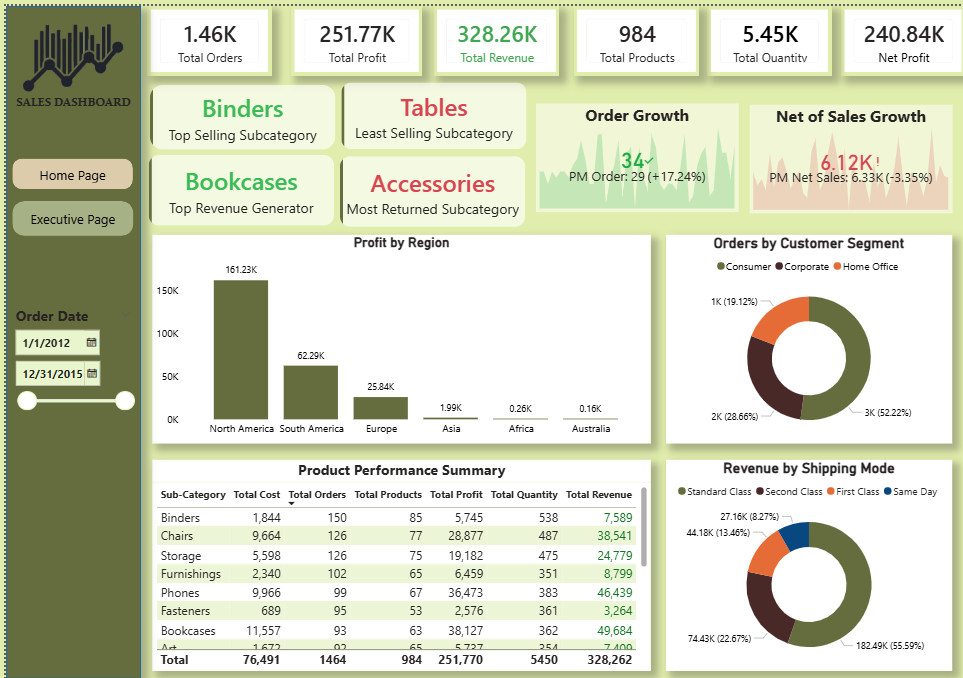

The dashboard page shown, as its layout file describes it:
{"tool":"powerbi","page":{"name":"Executive Page","canvas":[1280,720],"ordinal":1},"visuals":[{"type":"cardVisual","fields":{"Data":["KPI_Measures.Total Orders"]},"box":[190.4,11.5,199.1,101],"z":0},{"type":"cardVisual","fields":{"Data":["KPI_Measures.Total Profit"]},"box":[408.3,11.5,191.9,101],"z":1000},{"type":"cardVisual","fields":{"Data":["KPI_Measures.Total Revenue"]},"box":[620.4,11.5,202,102.4],"z":2000},{"type":"cardVisual","fields":{"Data":["KPI_Measures.Total Products"]},"box":[836.8,10.1,203.4,102.4],"z":3000},{"type":"cardVisual","fields":{"Data":["KPI_Measures.Total Quantity"]},"box":[1057.5,11.5,204.9,101],"z":4000},{"type":"donutChart","fields":{"Category":["sales.Ship Mode"],"Y":["Sum(sales.Revenue)"]},"box":[881.5,428.5,382.3,281.3],"z":5000},{"type":"donutChart","fields":{"Y":["Sum(sales.Quantity)"],"Category":["sales.Customer Segment"]},"box":[880.1,132.7,382.3,278.5],"z":6000},{"type":"clusteredColumnChart","fields":{"Category":["sales.Continent"],"Y":["Sum(sales.Profit)"]},"box":[196,132.7,665.1,278.5],"z":7000},{"type":"tableEx","title":"Summary Table","fields":{"Values":["Product_SubCategory.Sub-Category","KPI_Measures.Total Cost","KPI_Measures.Total Orders","KPI_Measures.Total Products","KPI_Measures.Total Profit","KPI_Measures.Total Quantity","KPI_Measures.Total Revenue"]},"box":[196.6,429.1,665,280.7],"z":8000},{"type":"shape","box":[0,10.1,180.3,699.7],"z":9000},{"type":"image","box":[0,21.6,180.3,90.9],"z":10000},{"type":"textbox","box":[0,112.5,180.3,36.1],"z":11000},{"type":"slicer","fields":{"Values":["DimDate.Date"]},"box":[0,304.5,179.8,151.6],"z":12000},{"type":"pageNavigator","box":[5.9,162.4,162.4,41.3],"z":13000},{"type":"actionButton","box":[5.9,224.4,162.4,33.9],"z":14000}]}

Visuals, with their boxes on the page's 1280x720 design canvas (x1, y1, x2, y2). These are canvas units, not pixel positions in the 963x678 screenshot, which may show the page scaled, cropped or inside an application window:
cardVisual - KPI_Measures.Total Orders: x1=190, y1=12, x2=390, y2=112
cardVisual - KPI_Measures.Total Profit: x1=408, y1=12, x2=600, y2=112
cardVisual - KPI_Measures.Total Revenue: x1=620, y1=12, x2=822, y2=114
cardVisual - KPI_Measures.Total Products: x1=837, y1=10, x2=1040, y2=112
cardVisual - KPI_Measures.Total Quantity: x1=1058, y1=12, x2=1262, y2=112
donutChart - sales.Ship Mode x Sum(sales.Revenue): x1=882, y1=428, x2=1264, y2=710
donutChart - Sum(sales.Quantity) x sales.Customer Segment: x1=880, y1=133, x2=1262, y2=411
clusteredColumnChart - sales.Continent x Sum(sales.Profit): x1=196, y1=133, x2=861, y2=411
"Summary Table" tableEx: x1=197, y1=429, x2=862, y2=710
shape: x1=0, y1=10, x2=180, y2=710
image: x1=0, y1=22, x2=180, y2=112
textbox: x1=0, y1=112, x2=180, y2=149
slicer - DimDate.Date: x1=0, y1=304, x2=180, y2=456
pageNavigator: x1=6, y1=162, x2=168, y2=204
actionButton: x1=6, y1=224, x2=168, y2=258
